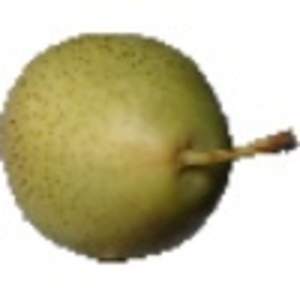pera: (1, 30, 300, 266)
